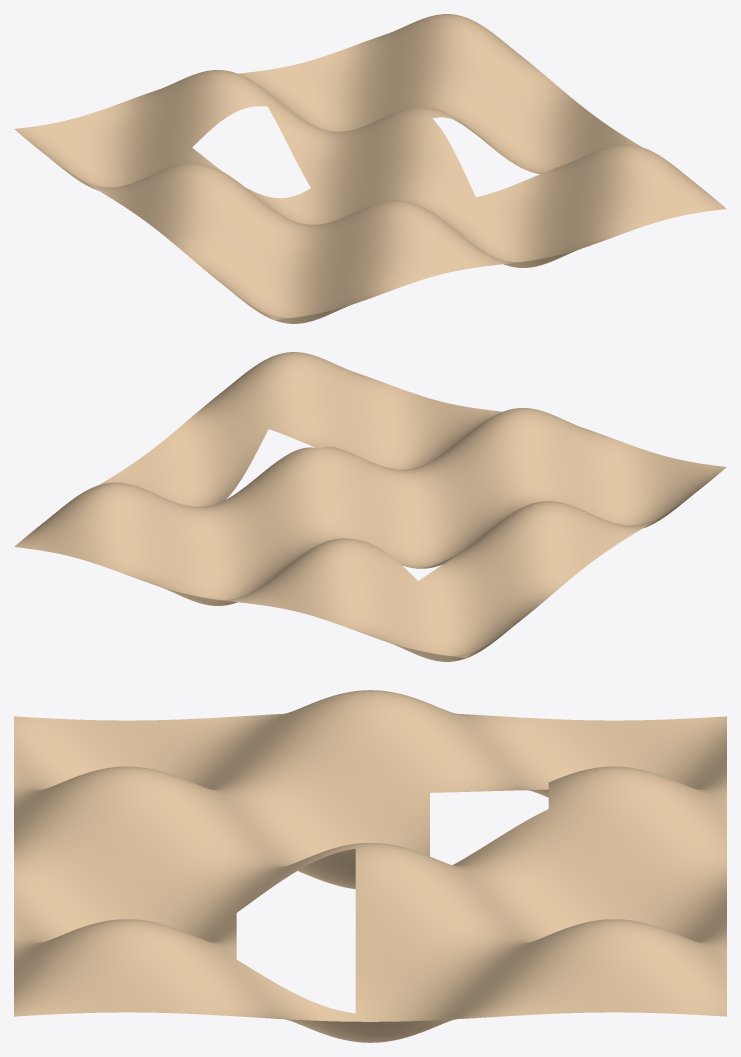
Rendered from open-sheet.glb.
3 views of the same model, one above another, from view 1: azimuth 30°, elevation 25°; view 2: azimuth 150°, elevation 25°; view 3: azimuth 270°, elevation 25° (orthographic). The views are drawn at different scales.
Parts seen in each view (by area): view 1: open_sheet; view 2: open_sheet; view 3: open_sheet.
Part boxes in pixels (<box>): open_sheet: <box>14,14,726,323</box>; open_sheet: <box>14,352,726,661</box>; open_sheet: <box>14,690,726,1042</box>.
Bounding box in the file's own units: 4 × 0.7 × 4.
